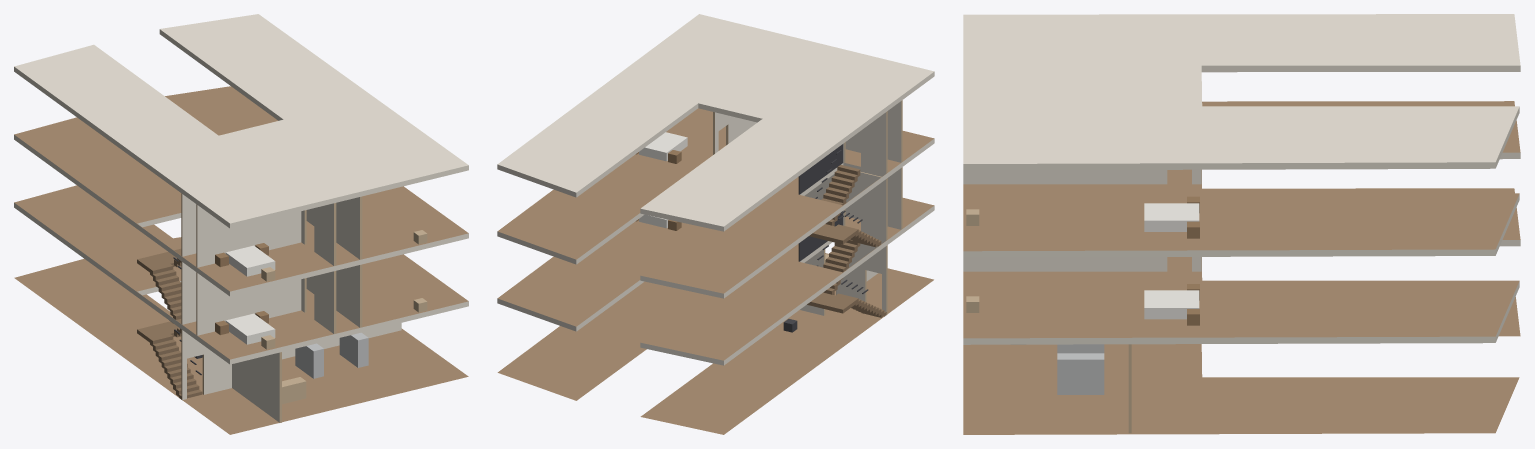
The model's file is interior.glb.
3 views of the same model, side by side, from view 1: azimuth 30°, elevation 25°; view 2: azimuth 150°, elevation 25°; view 3: azimuth 270°, elevation 25° (orthographic). The views are drawn at different scales.
Visible parts, largest first — view 1: slabs, partitions, stair, coarse-s0, coarse-s1, coarse-s2; view 2: slabs, partitions, stair, coarse-s2; view 3: slabs, partitions, coarse-s0, coarse-s1, coarse-s2.
Boxes of the visible parts, x1,y1,x2,y2 form: slabs: (14,14,468,434); partitions: (181,193,401,422); stair: (137,248,202,399); coarse-s0: (194,332,368,404); coarse-s1: (215,298,427,349); coarse-s2: (215,230,427,281); slabs: (497,14,934,434); partitions: (713,100,902,315); stair: (798,144,886,317); coarse-s2: (636,132,687,163); slabs: (963,14,1520,434); partitions: (963,169,1201,433); coarse-s0: (1011,344,1104,394); coarse-s1: (966,284,1199,325); coarse-s2: (966,196,1199,238).
Size of the model in its own units: 12.92 by 10.9 by 20.28.
